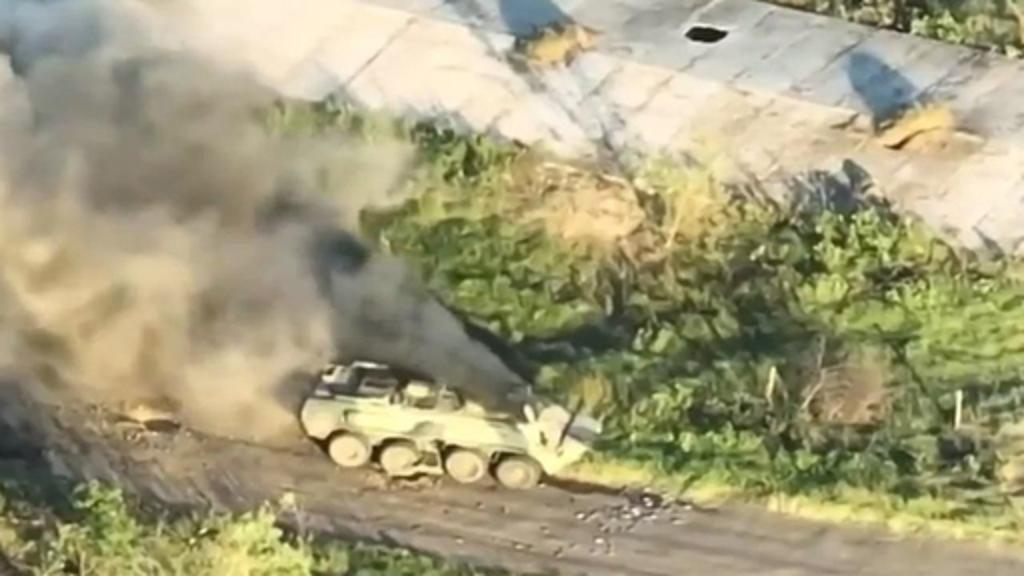APC-IFV: (282, 342, 600, 500)
